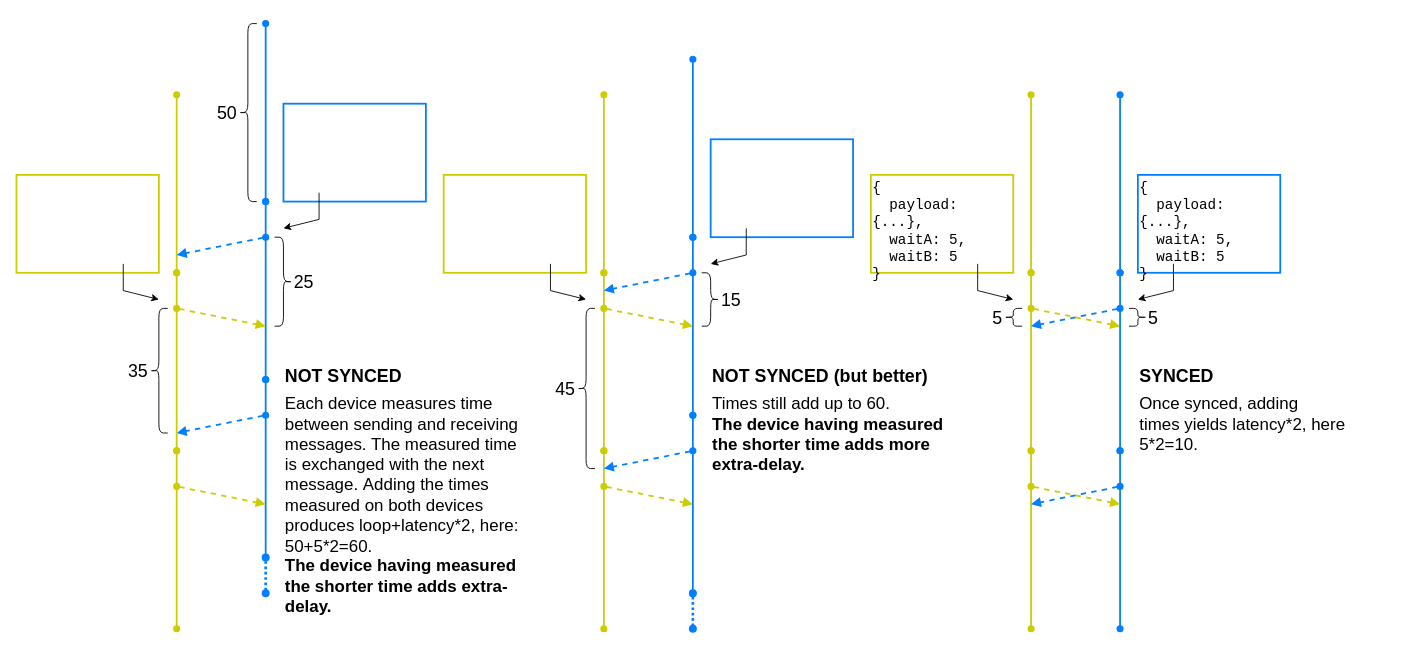
Image size: 1402x670. Some labels were removed from this diagram. Here are the shapes that lost their labels. From the top down, the centre of each, then its label:
the point at 354,152: { payload: {...}, waitA: 25 , waitB: 35 }
the point at 781,188: { payload: {...}, waitA: 15 , waitB: 45 }
the point at 87,223: { payload: {...}, waitA: 35, waitB: 25 }
the point at 514,223: { payload: {...}, waitA: 45, waitB: 15 }
